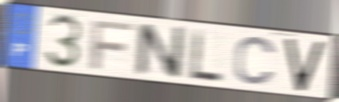3: (42, 12, 83, 70)
C: (232, 34, 279, 87)
F: (89, 19, 135, 72)
L: (190, 27, 224, 83)
N: (134, 22, 188, 81)
V: (284, 37, 327, 93)
